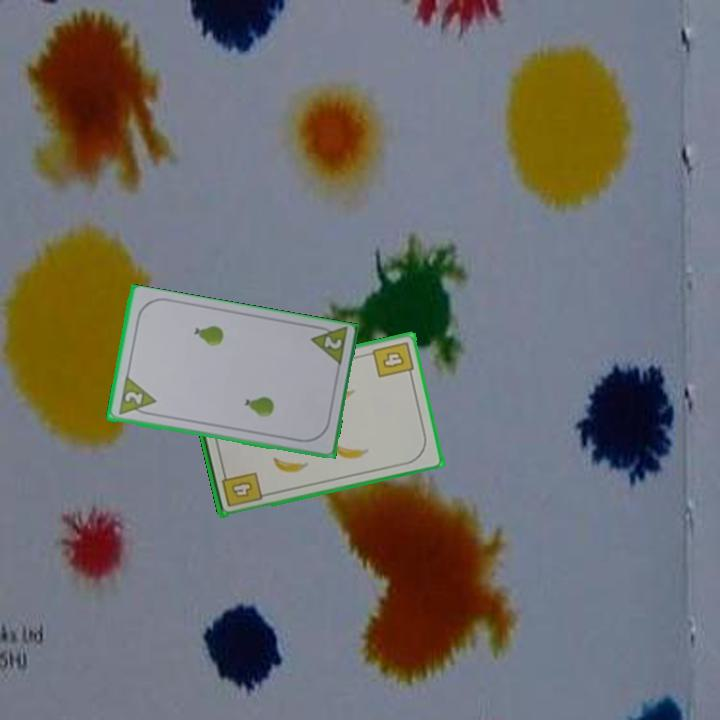2p: (306, 321, 350, 371), (115, 375, 158, 419)
4b: (369, 337, 416, 381), (218, 467, 265, 510)
